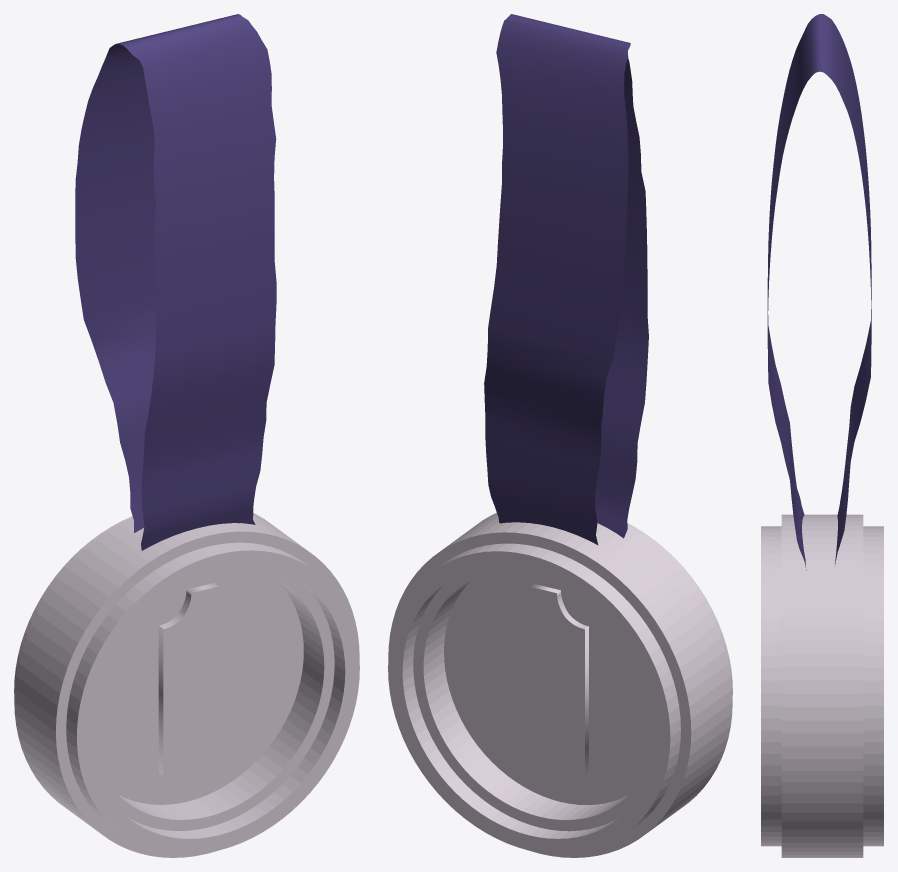
The model's file is 2023SEPT16-ShellHacks-Medal.glb.
3 views of the same model, side by side, from view 1: azimuth 30°, elevation 25°; view 2: azimuth 150°, elevation 25°; view 3: azimuth 270°, elevation 25° (orthographic). The views are drawn at different scales.
Parts seen in each view (by area): view 1: Plane, Cylinder, Text; view 2: Cylinder, Plane, Text; view 3: Cylinder, Plane.
Boxes of the visible parts, left/top/right/bottom form: Plane: left=75, top=14, right=276, bottom=550; Cylinder: left=14, top=513, right=359, bottom=857; Text: left=158, top=583, right=219, bottom=775; Cylinder: left=388, top=513, right=732, bottom=857; Plane: left=484, top=14, right=648, bottom=544; Text: left=529, top=583, right=588, bottom=775; Cylinder: left=761, top=514, right=883, bottom=857; Plane: left=767, top=14, right=871, bottom=570.
Bounding box in the file's own units: 2 × 5.11 × 0.7157.
